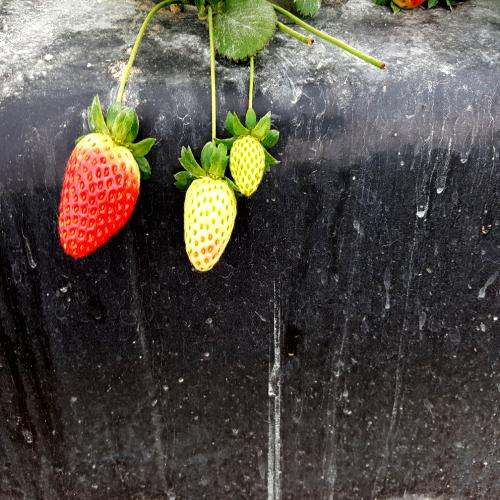partially-ripe: (56, 124, 142, 270)
unripe: (179, 175, 242, 280)
